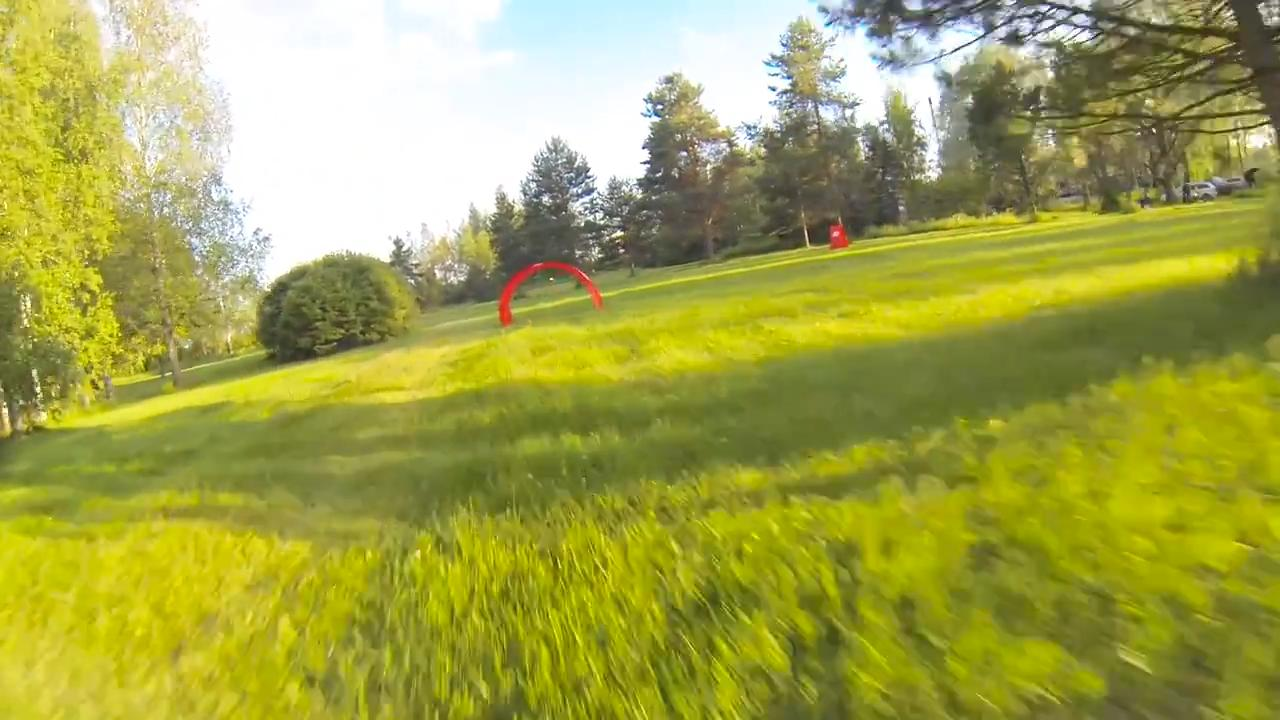gate: (499, 258, 607, 327)
